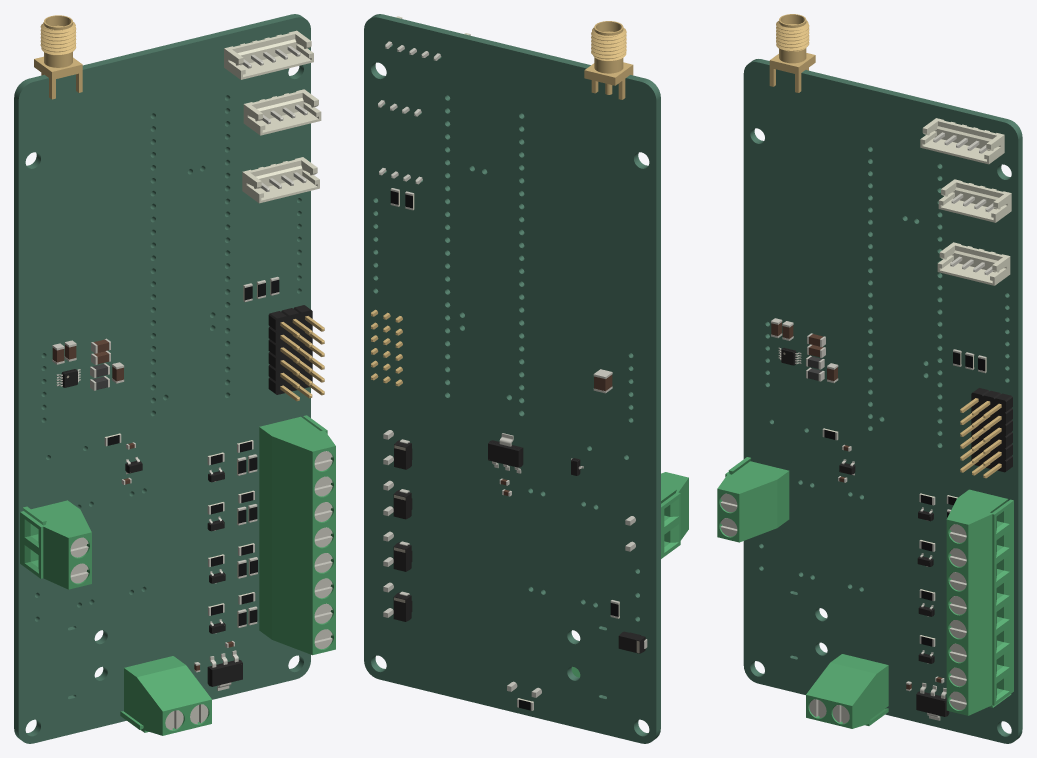
File: board.glb
3 views of the same model, side by side, from view 1: azimuth 30°, elevation 25°; view 2: azimuth 150°, elevation 25°; view 3: azimuth 330°, elevation 25° (orthographic). The views are drawn at different scales.
Visible parts, largest first — view 1: =>[0:1:1:18], J2, J3, J16, J4, J5, J6, U10, J14, J15, J13, J10 (+6 smaller); view 2: =>[0:1:1:18], J15, J16, U8, D3, D4, D5; view 3: =>[0:1:1:18], J16, J2, J3, J6, J5, J4, U10, J15, J13, J14, J10 (+6 smaller).
Boxes of the visible parts, x1=… form: =>[0:1:1:18]: x1=14, y1=14, x2=310, y2=743; J2: x1=120, y1=656, x2=211, y2=735; J3: x1=259, y1=415, x2=335, y2=502; J16: x1=20, y1=500, x2=91, y2=589; J4: x1=259, y1=529, x2=335, y2=604; J5: x1=259, y1=478, x2=335, y2=553; J6: x1=259, y1=580, x2=335, y2=655; U10: x1=224, y1=30, x2=313, y2=79; J14: x1=243, y1=89, x2=321, y2=135; J15: x1=34, y1=15, x2=82, y2=99; J13: x1=242, y1=157, x2=319, y2=203; J10: x1=268, y1=305, x2=324, y2=337; =>[0:1:1:18]: x1=364, y1=14, x2=660, y2=743; J15: x1=584, y1=21, x2=633, y2=99; J16: x1=625, y1=472, x2=688, y2=558; U8: x1=488, y1=433, x2=523, y2=473; D3: x1=393, y1=541, x2=412, y2=571; D4: x1=393, y1=489, x2=412, y2=519; D5: x1=393, y1=591, x2=412, y2=621; =>[0:1:1:18]: x1=743, y1=59, x2=1022, y2=743; J16: x1=717, y1=457, x2=789, y2=542; J2: x1=806, y1=654, x2=888, y2=728; J3: x1=946, y1=489, x2=1013, y2=572; J6: x1=946, y1=644, x2=1013, y2=715; J5: x1=946, y1=548, x2=1013, y2=620; J4: x1=946, y1=596, x2=1013, y2=667; U10: x1=920, y1=118, x2=1004, y2=164; J15: x1=769, y1=14, x2=815, y2=92; J13: x1=937, y1=242, x2=1010, y2=285; J14: x1=938, y1=179, x2=1011, y2=222; J10: x1=960, y1=388, x2=1012, y2=418.
Bounding box in the file's own units: 0.0601 × 0.1395 × 0.0192.
